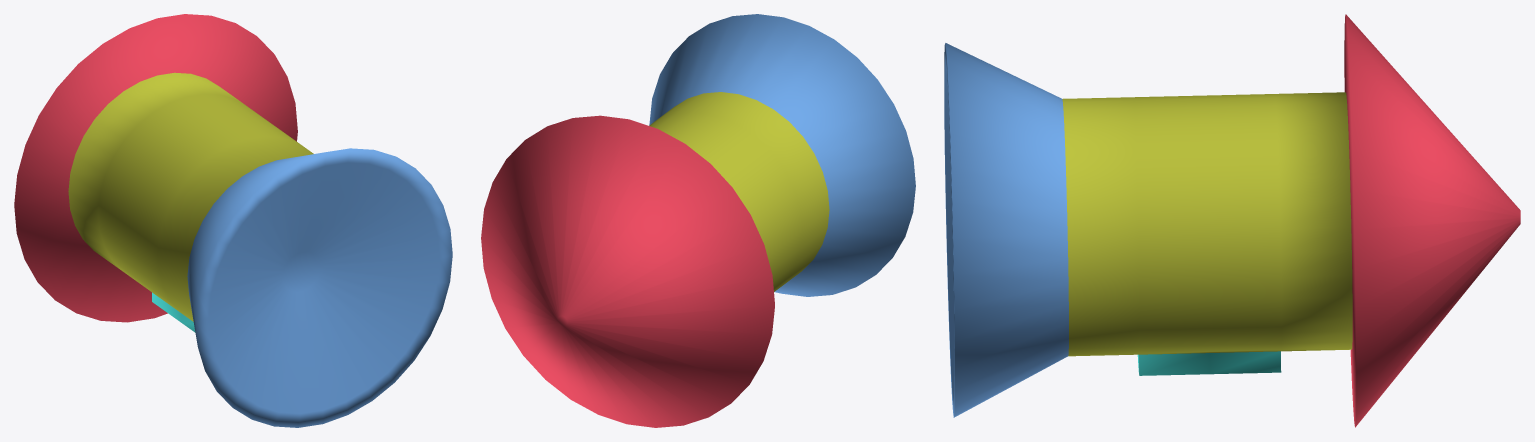
Rendered from Rocket3.fbx.
3 renders of one model, left to right at view 1: azimuth 30°, elevation 25°; view 2: azimuth 150°, elevation 25°; view 3: azimuth 270°, elevation 25°, orthographic. The views are drawn at different scales.
Parts seen in each view (by area): view 1: Cylinder; view 2: Cylinder; view 3: Cylinder.
Boxes of the visible parts, left/top/right/bottom form: Cylinder: left=14, top=14, right=452, bottom=427; Cylinder: left=481, top=14, right=915, bottom=427; Cylinder: left=944, top=14, right=1520, bottom=427.
Bounding box in the file's own units: 209 × 209 × 291.
